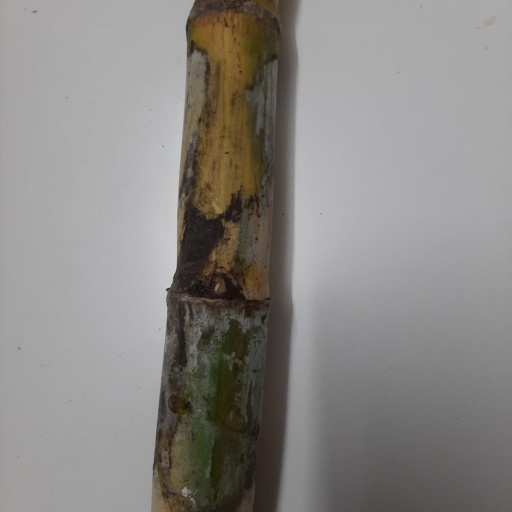Bud: (212, 276, 227, 299)
